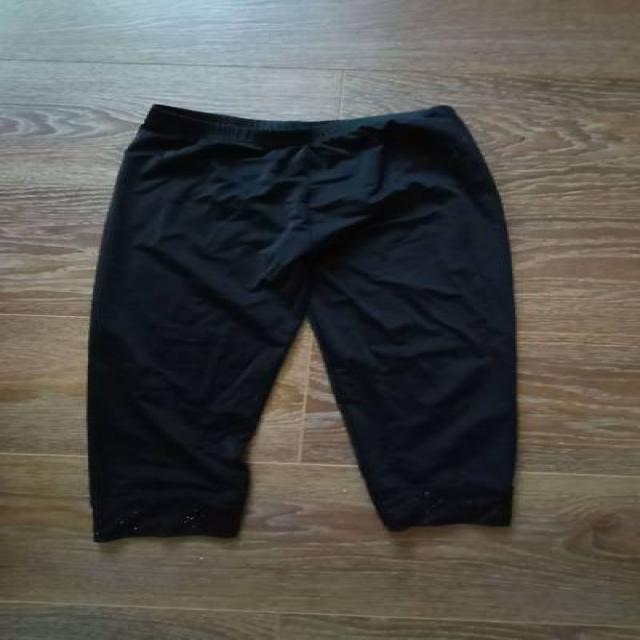Clothes -Biodegradable-: (86, 103, 521, 548)
